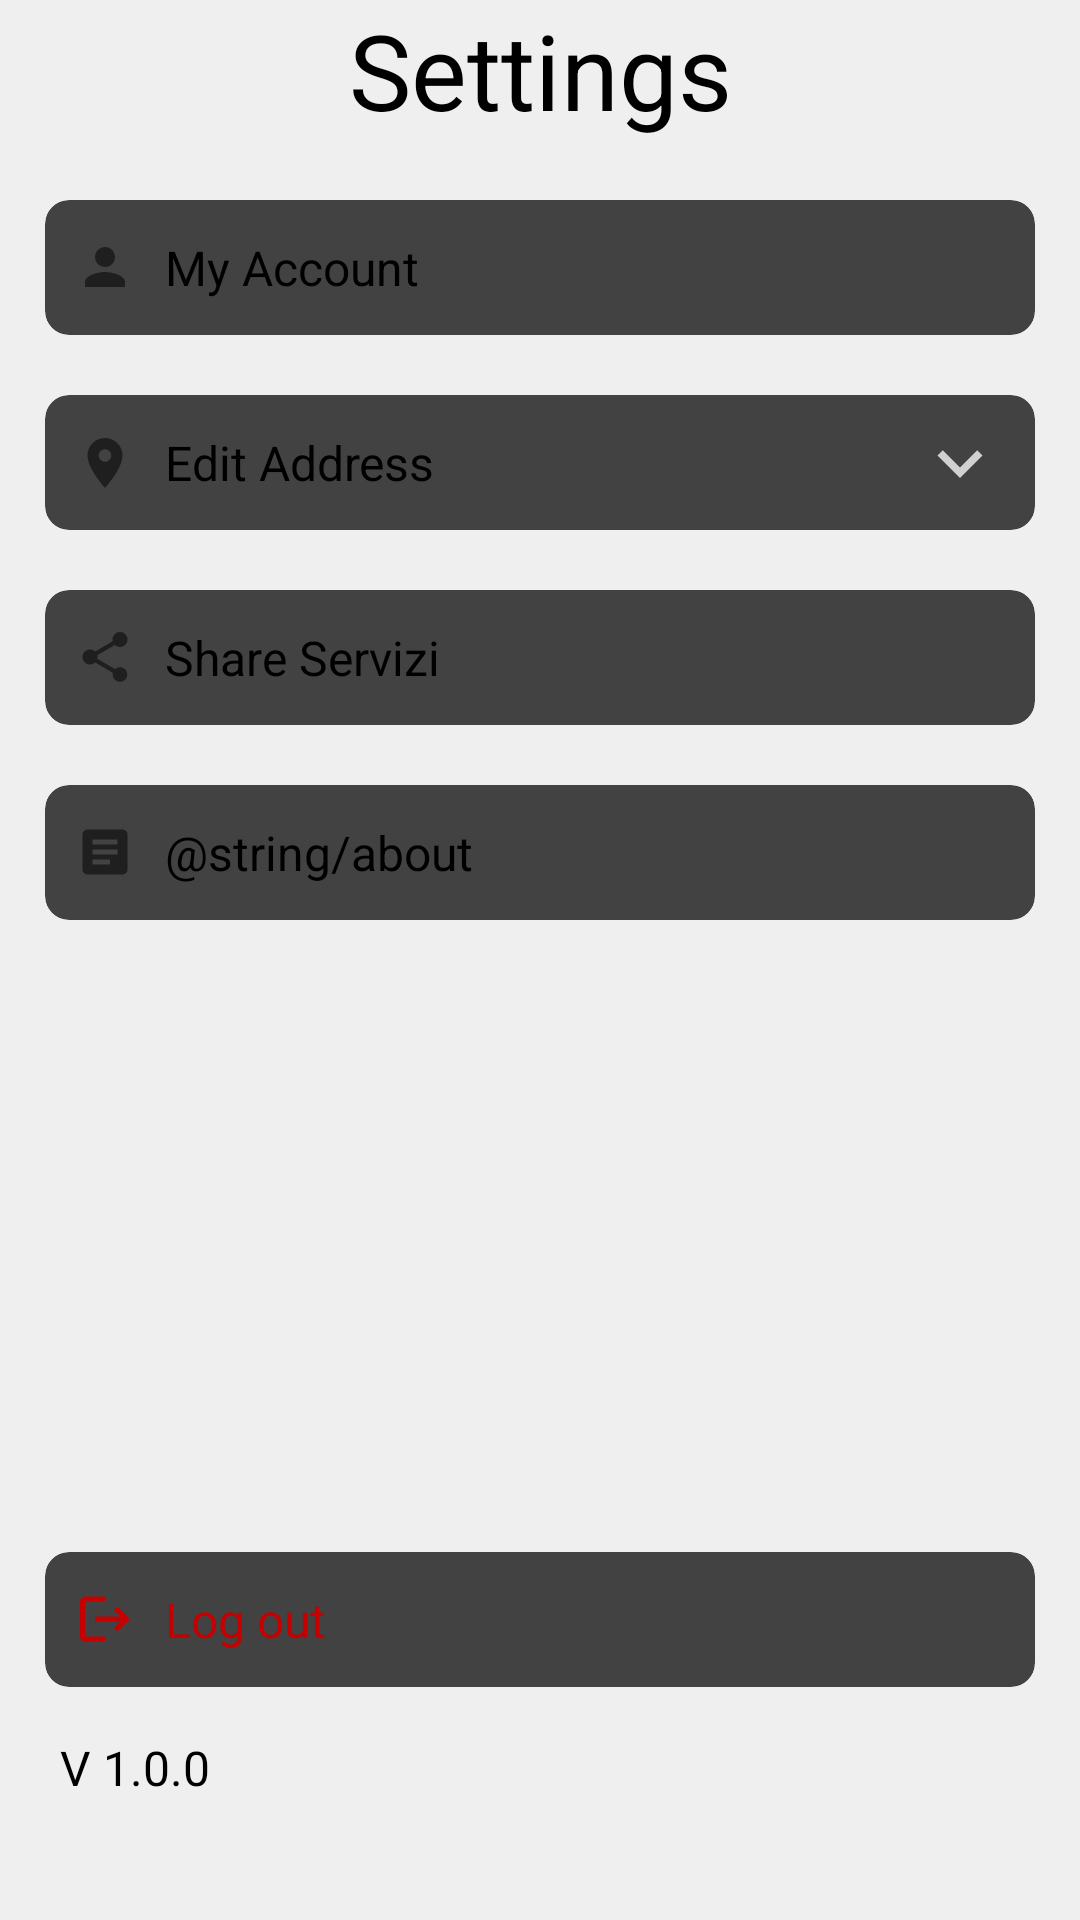

Where to tap for icons on this 1080w x 1920h app screen, as (x=x, y=y):
arrow down: (x=960, y=464)
article: (x=105, y=852)
location on: (x=105, y=462)
